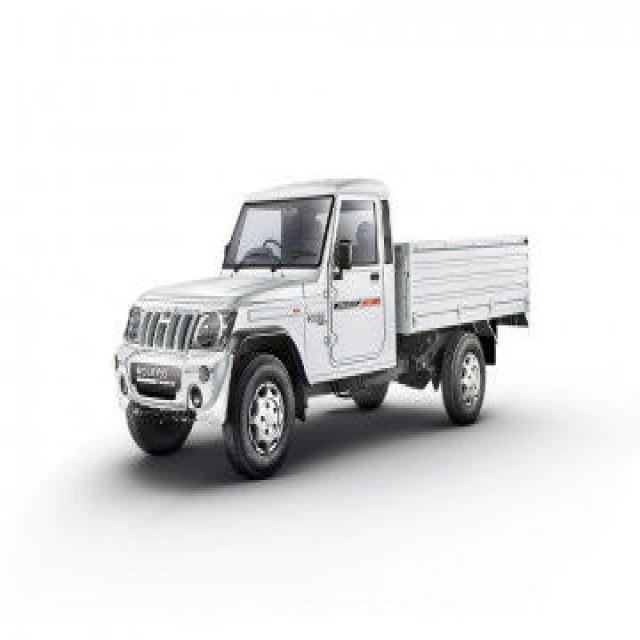light_vehicle: (114, 179, 531, 473)
